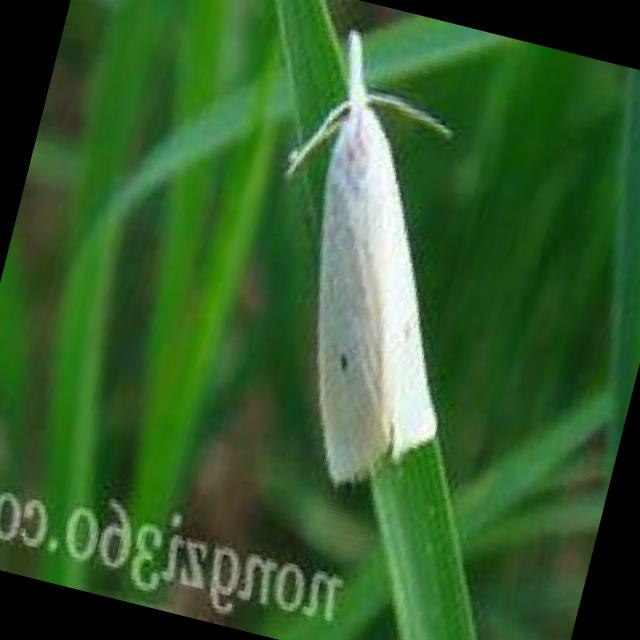stem-borer: (281, 19, 456, 492)
